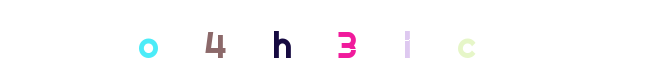3: (290, 0, 370, 80)
4: (178, 0, 258, 80)
C: (362, 0, 442, 80)
H: (241, 0, 321, 80)
L: (308, 0, 388, 80)
O: (108, 0, 188, 80)
